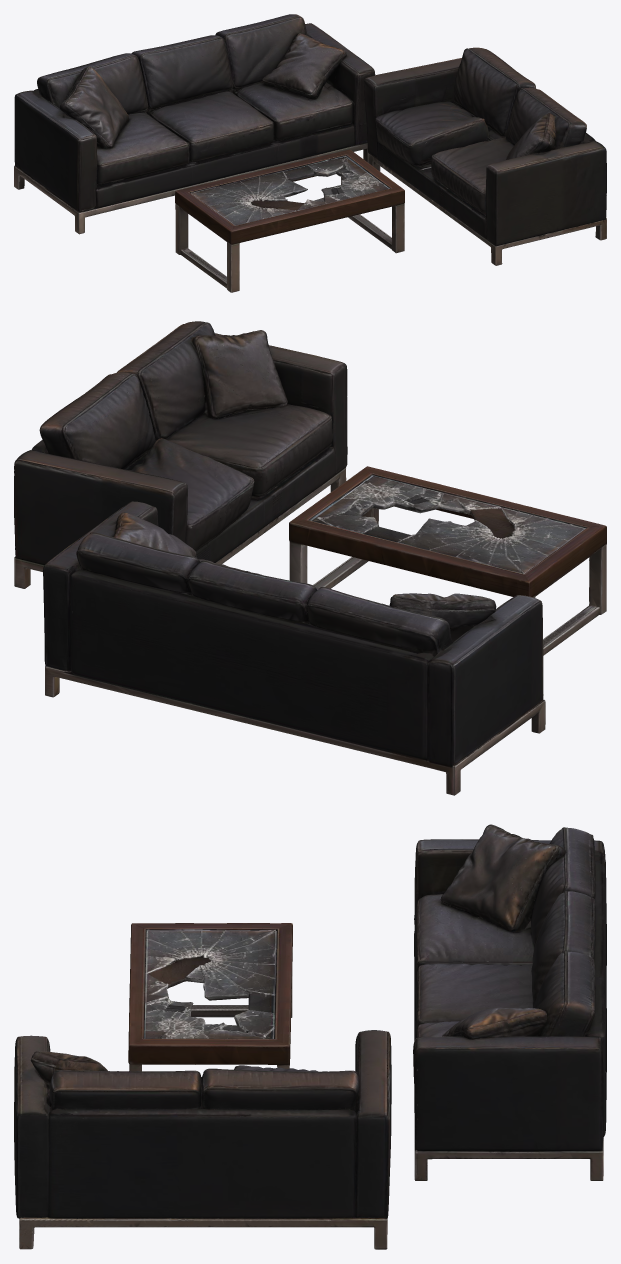
File: CEO_couch_coffee_table.glb
The picture shows the model from 3 angles, top to bottom: view 1: azimuth 30°, elevation 25°; view 2: azimuth 150°, elevation 25°; view 3: azimuth 270°, elevation 25°; orthographic projection. The views are drawn at different scales.
Visible parts, largest first — view 1: mesh_node; view 2: mesh_node; view 3: mesh_node.
Boxes of the visible parts, x1=… form: mesh_node: x1=14, y1=14, x2=606, y2=292; mesh_node: x1=14, y1=321, x2=606, y2=795; mesh_node: x1=14, y1=824, x2=606, y2=1249.
Size of the model in its own units: 1.9 by 0.545 by 1.72.
Materials: 1 (1 with a texture image).
